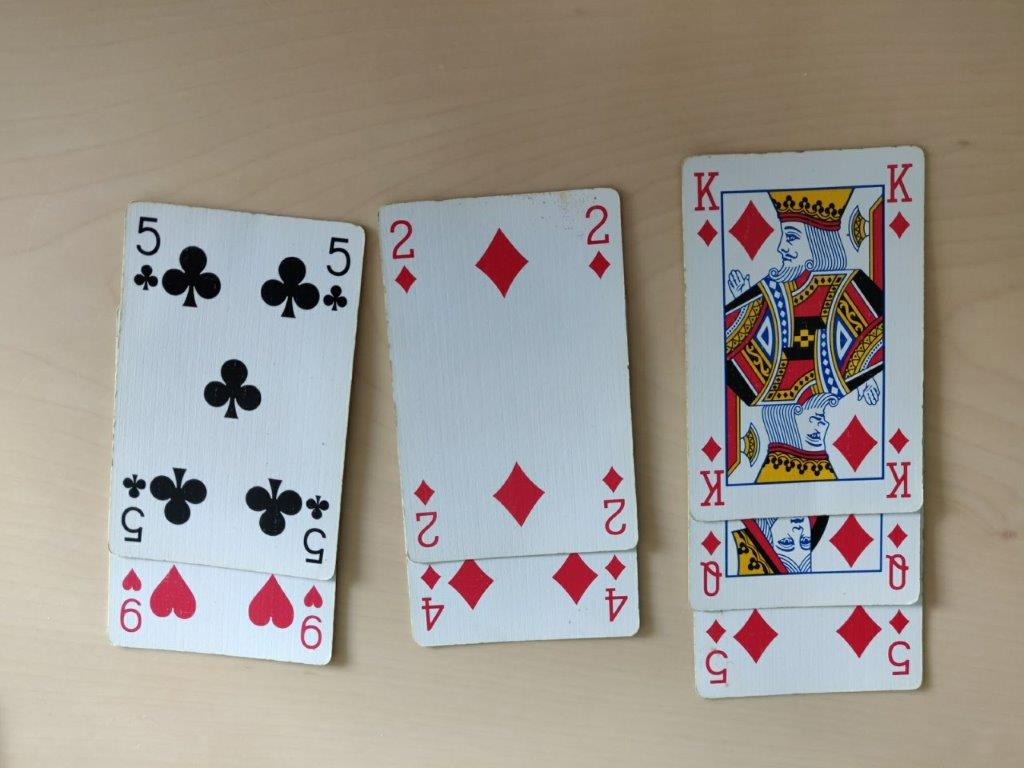2D: (382, 202, 650, 545)
4D: (405, 553, 659, 644)
5C: (116, 203, 347, 569)
5D: (697, 603, 929, 695)
9H: (108, 564, 339, 668)
KD: (682, 156, 933, 511)
QD: (690, 517, 924, 603)
